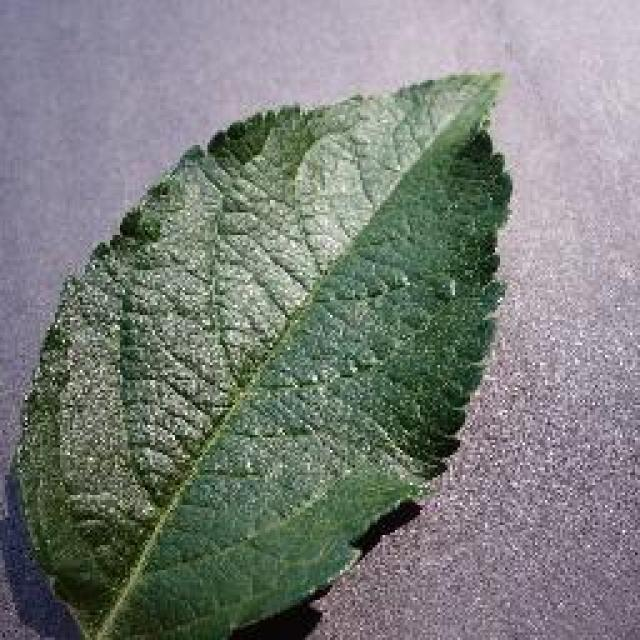apple healthy: (7, 68, 515, 638)
